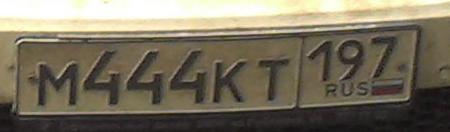license-plateSW: (13, 24, 418, 121)
